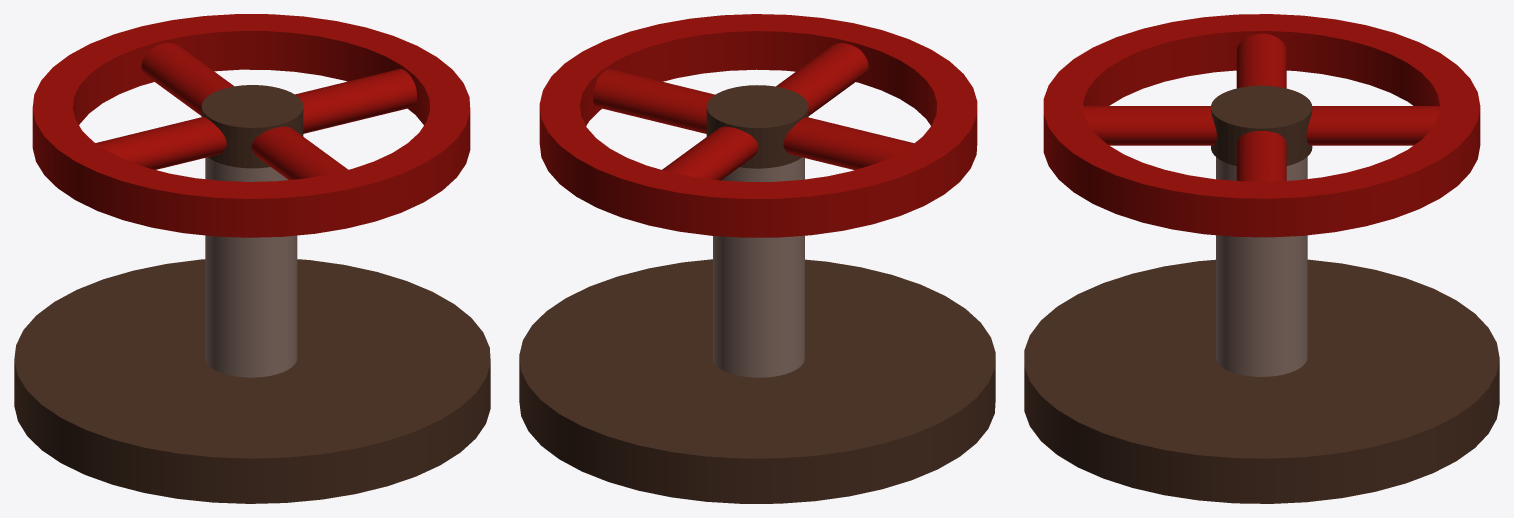
3 views of the same model, side by side, from view 1: azimuth 30°, elevation 25°; view 2: azimuth 150°, elevation 25°; view 3: azimuth 270°, elevation 25° (orthographic).
Visible parts, largest first — view 1: 柱体.012; view 2: 柱体.012; view 3: 柱体.012.
Part boxes in pixels (x1,y1,x2,y2): 柱体.012: [14, 14, 490, 503]; 柱体.012: [519, 14, 995, 503]; 柱体.012: [1024, 14, 1499, 503].
Size of the model in its own units: 99.66 by 68.55 by 99.59.
